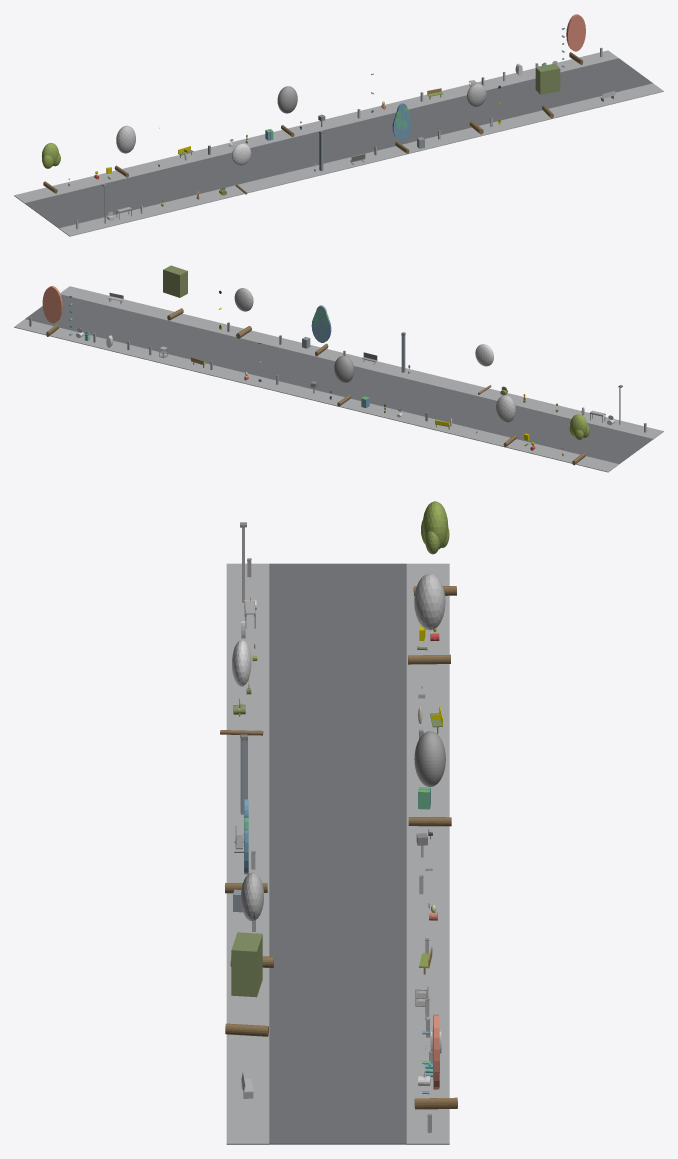
3 renders of one model, top to bottom at view 1: azimuth 30°, elevation 25°; view 2: azimuth 150°, elevation 25°; view 3: azimuth 270°, elevation 25°, orthographic. The views are drawn at different scales.
Visible parts, largest first — view 1: road_slab, sidewalk_left, sidewalk_right, inst_0024, inst_0025, inst_0022, inst_0019, inst_0021, inst_0018, inst_0023, inst_0020; view 2: road_slab, sidewalk_right, sidewalk_left, inst_0024, inst_0025, inst_0022, inst_0021, inst_0019, inst_0018, inst_0023, inst_0020; view 3: road_slab, sidewalk_left, sidewalk_right, inst_0024, inst_0019, inst_0021, inst_0018, inst_0023, inst_0025, inst_0020.
Boxes of the visible parts, x1=… form: road_slab: x1=24, y1=58, x2=652, y2=228; sidewalk_left: x1=59, y1=83, x2=663, y2=236; sidewalk_right: x1=14, y1=50, x2=618, y2=203; inst_0024: x1=535, y1=63, x2=560, y2=118; inst_0025: x1=566, y1=14, x2=585, y2=65; inst_0022: x1=392, y1=103, x2=411, y2=153; inst_0019: x1=114, y1=125, x2=135, y2=177; inst_0021: x1=277, y1=86, x2=297, y2=137; inst_0018: x1=41, y1=143, x2=60, y2=193; inst_0023: x1=466, y1=83, x2=486, y2=134; inst_0020: x1=231, y1=143, x2=251, y2=194; road_slab: x1=25, y1=294, x2=653, y2=464; sidewalk_right: x1=14, y1=319, x2=618, y2=472; sidewalk_left: x1=60, y1=286, x2=663, y2=439; inst_0024: x1=163, y1=265, x2=187, y2=320; inst_0025: x1=42, y1=286, x2=62, y2=336; inst_0022: x1=311, y1=305, x2=331, y2=356; inst_0021: x1=334, y1=355, x2=354, y2=406; inst_0019: x1=496, y1=395, x2=516, y2=446; inst_0018: x1=569, y1=414, x2=589, y2=465; inst_0023: x1=234, y1=288, x2=253, y2=338; inst_0020: x1=475, y1=344, x2=493, y2=394; road_slab: x1=269, y1=563, x2=406, y2=1144; sidewalk_left: x1=226, y1=563, x2=269, y2=1144; sidewalk_right: x1=406, y1=563, x2=449, y2=1144; inst_0024: x1=225, y1=932, x2=268, y2=1036; inst_0019: x1=408, y1=573, x2=450, y2=664; inst_0021: x1=408, y1=731, x2=451, y2=826; inst_0018: x1=413, y1=501, x2=456, y2=596; inst_0023: x1=230, y1=872, x2=273, y2=967; inst_0025: x1=414, y1=1014, x2=457, y2=1109; inst_0020: x1=220, y1=640, x2=263, y2=735.
Size of the model in its own units: 80 by 6.08 by 13.86.
